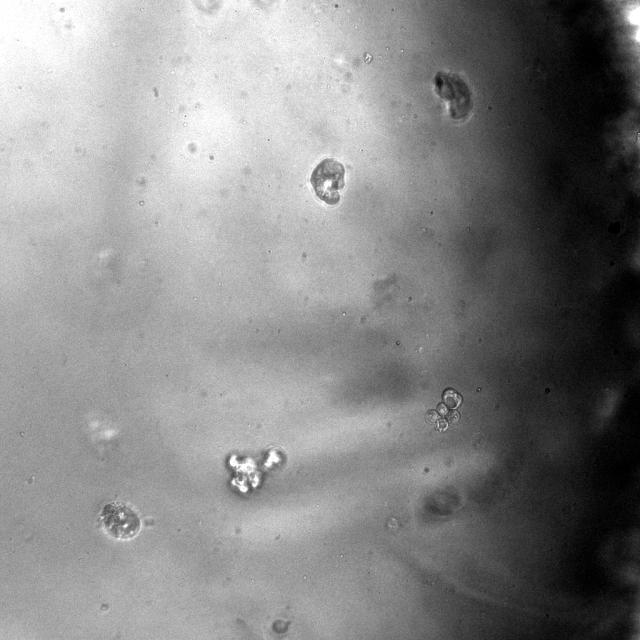organoid: (225, 445, 286, 495), (433, 70, 474, 122), (309, 158, 345, 206), (100, 501, 141, 539), (426, 388, 462, 431), (272, 618, 290, 635)
